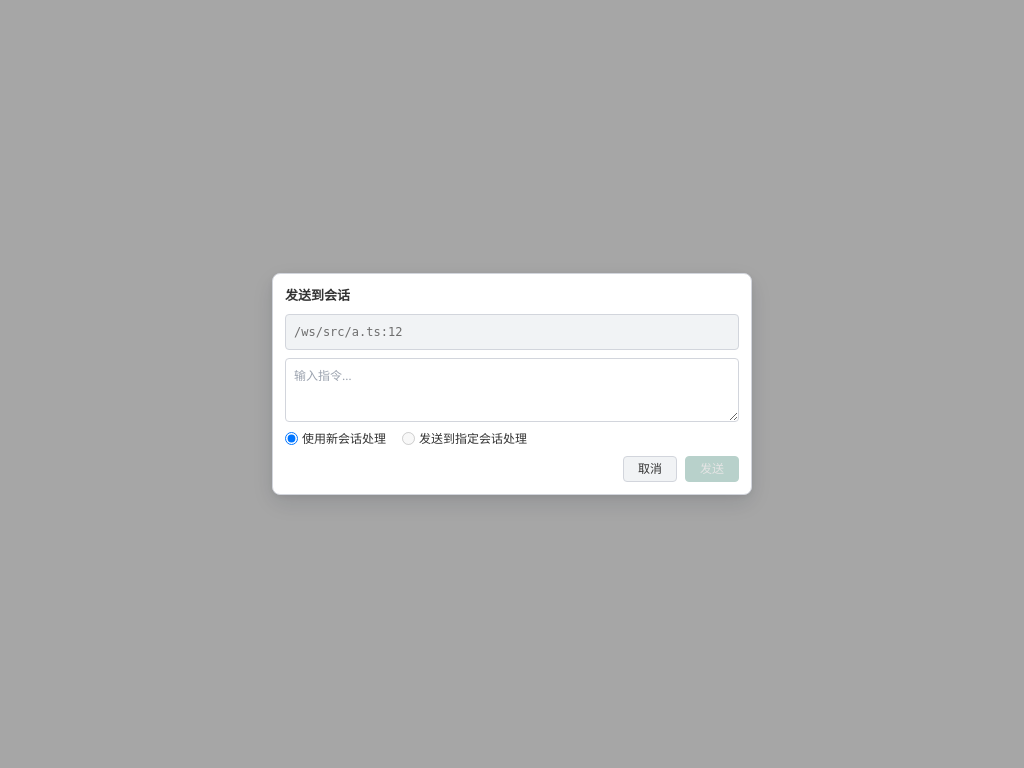
Test: SendToConversationDialog › {ok:true, started:false} 提示未启动且不关闭
Type "x" into the text box with test id "pm-send-dialog-instruction".
click(512, 390); type("x")  # box [285,358,739,422]
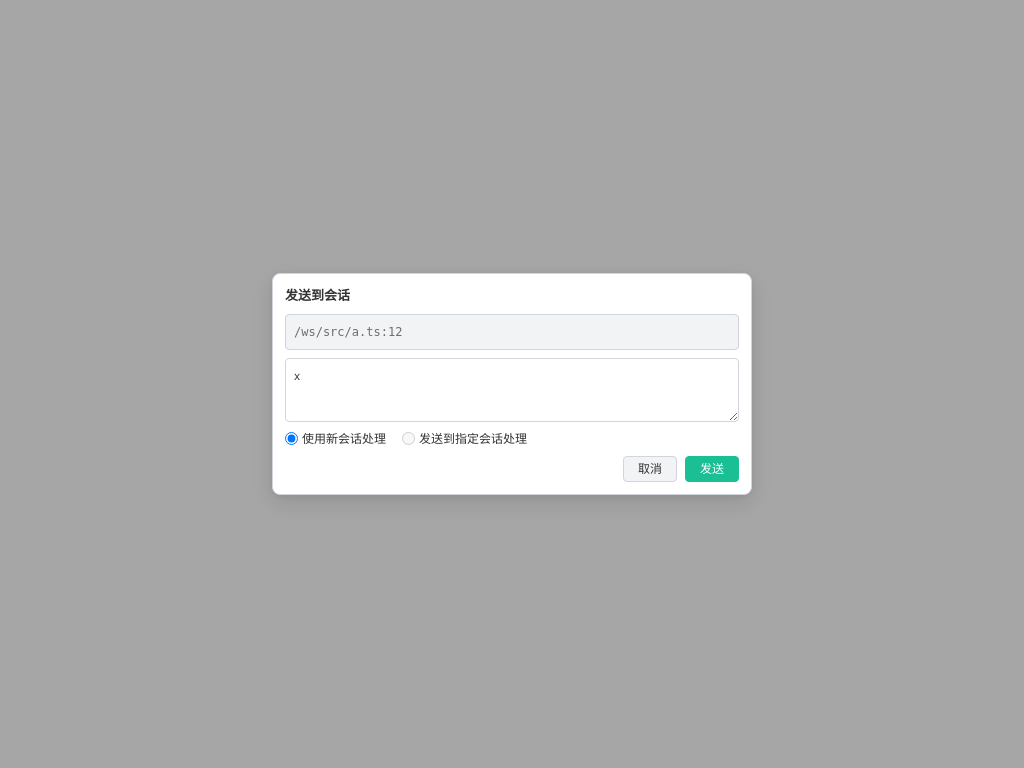
Click the button "发送".
click(712, 469)  # box [685,456,739,482]
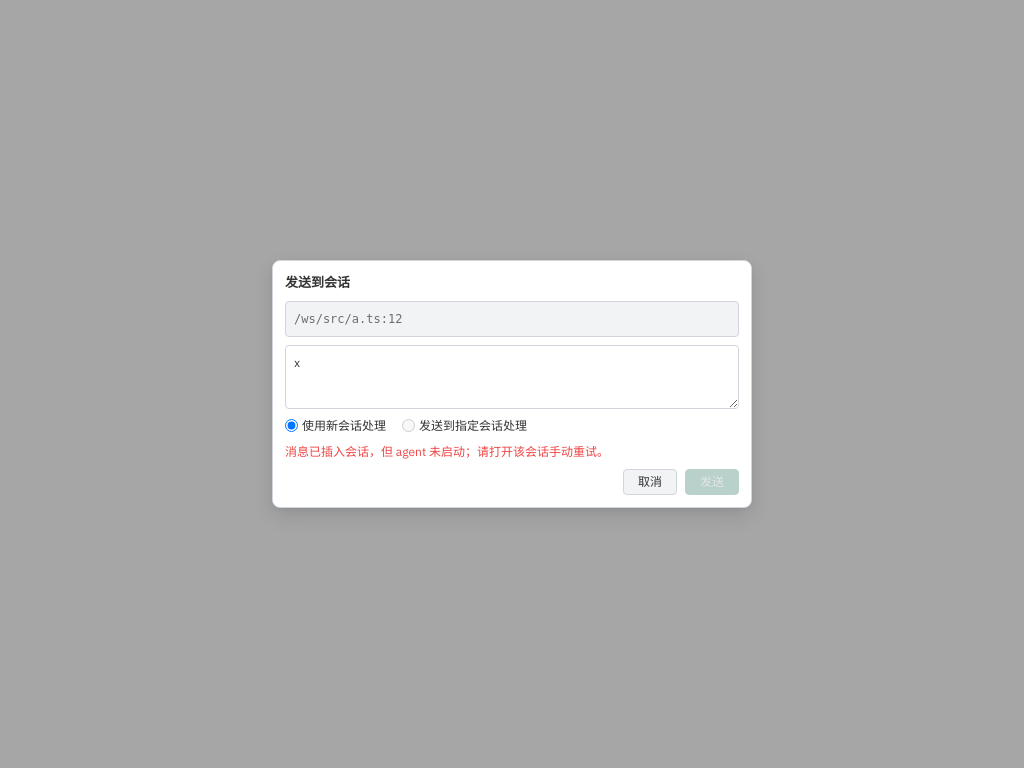
Result: the message shows "消息已插入会话，但 agent 未启动" at [285,444,609,459]
